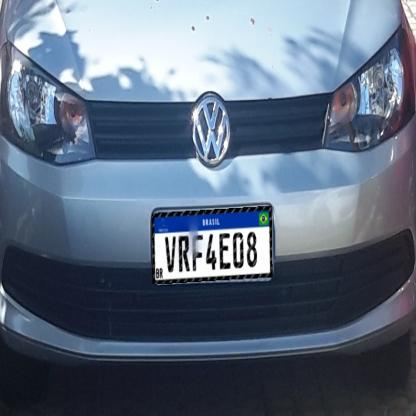PlacaM: (152, 206, 273, 284)
